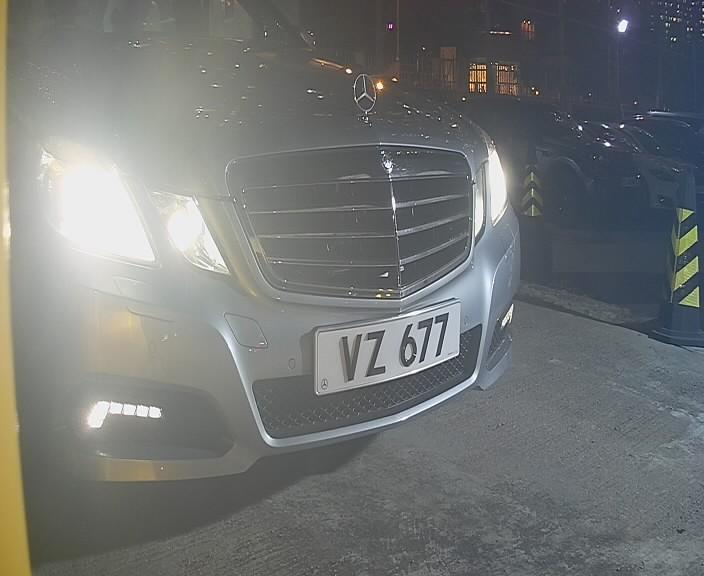License Plate: (305, 296, 469, 394)
